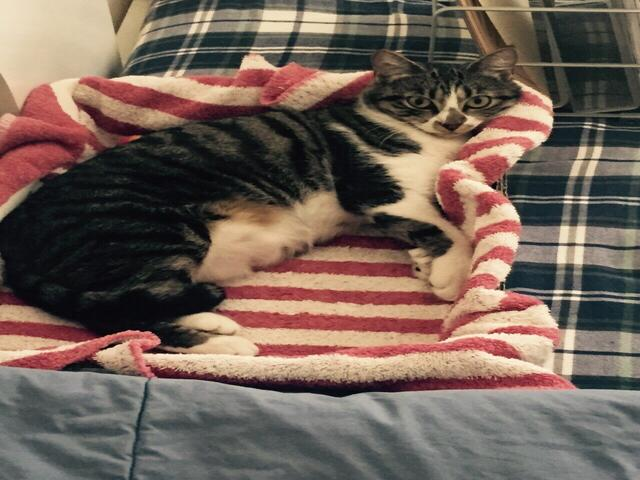playdoh: (1, 41, 527, 354)
